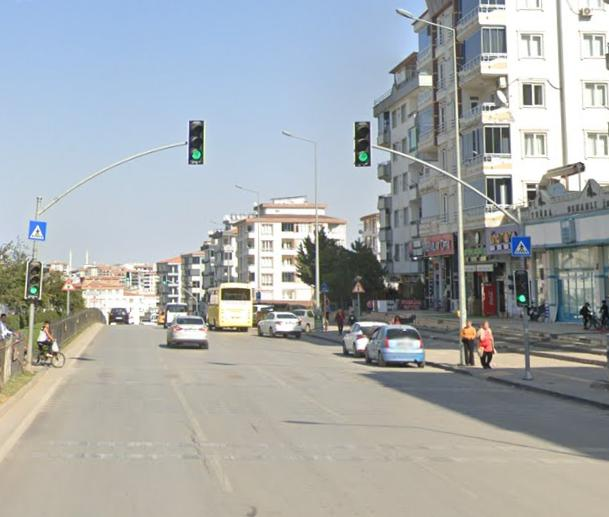greenlight: (22, 259, 43, 304), (188, 116, 205, 167), (354, 120, 371, 167), (516, 268, 530, 307), (162, 274, 168, 285), (126, 272, 131, 282)
